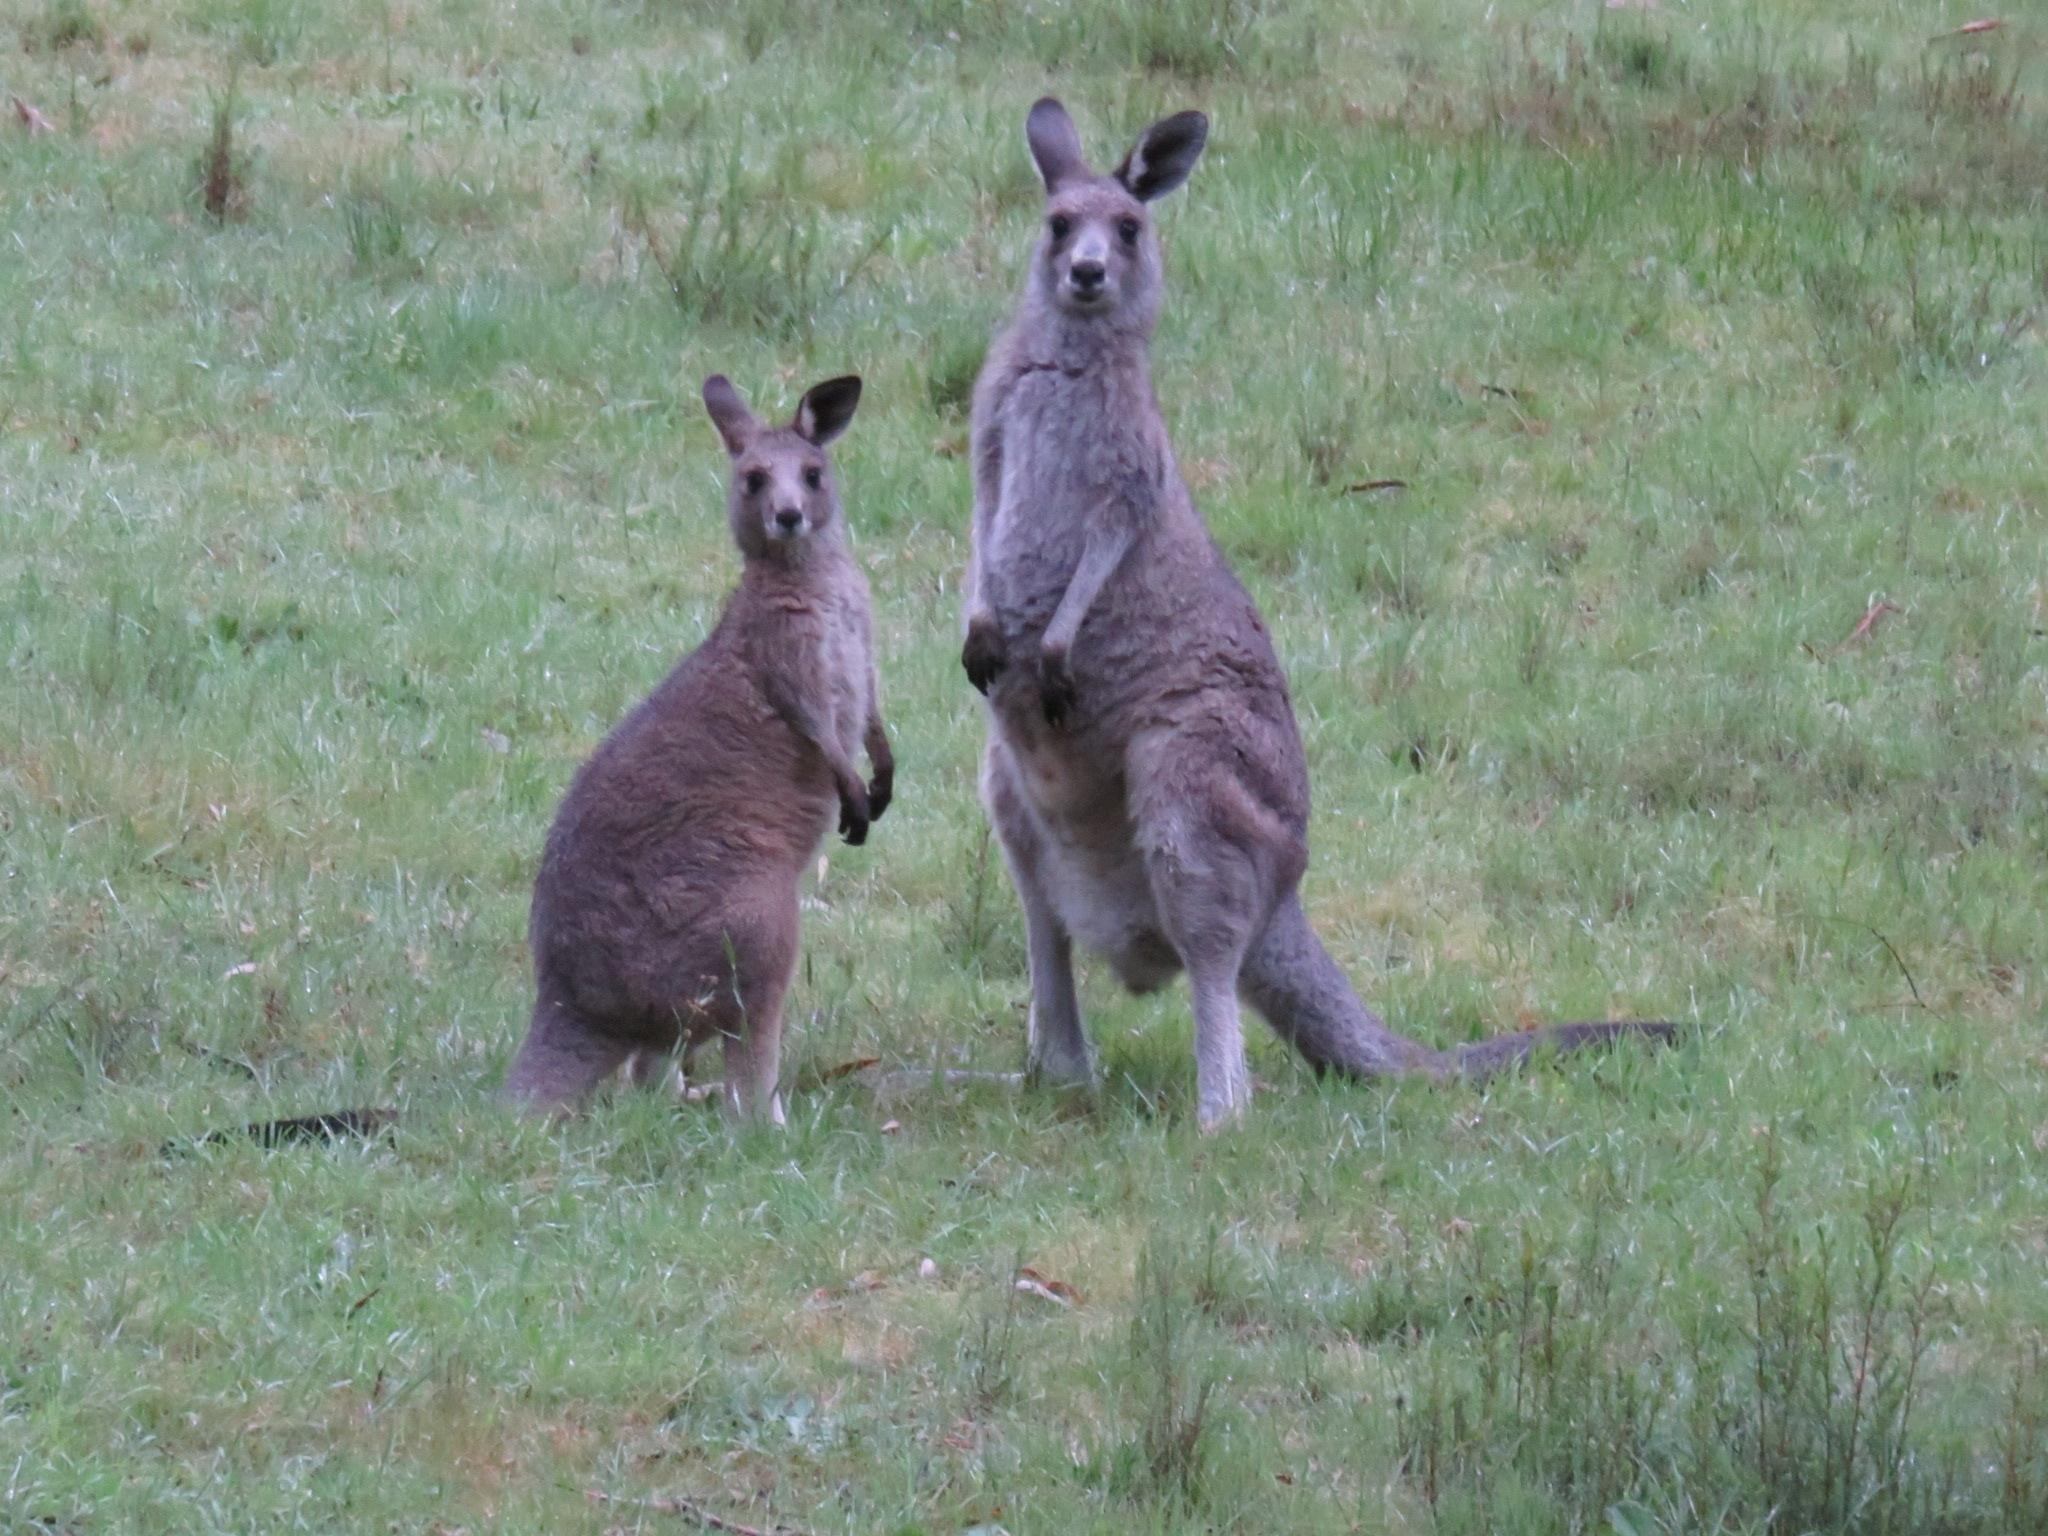Eastern grey kangaroo: (945, 74, 1725, 1157), (144, 368, 921, 1181)
